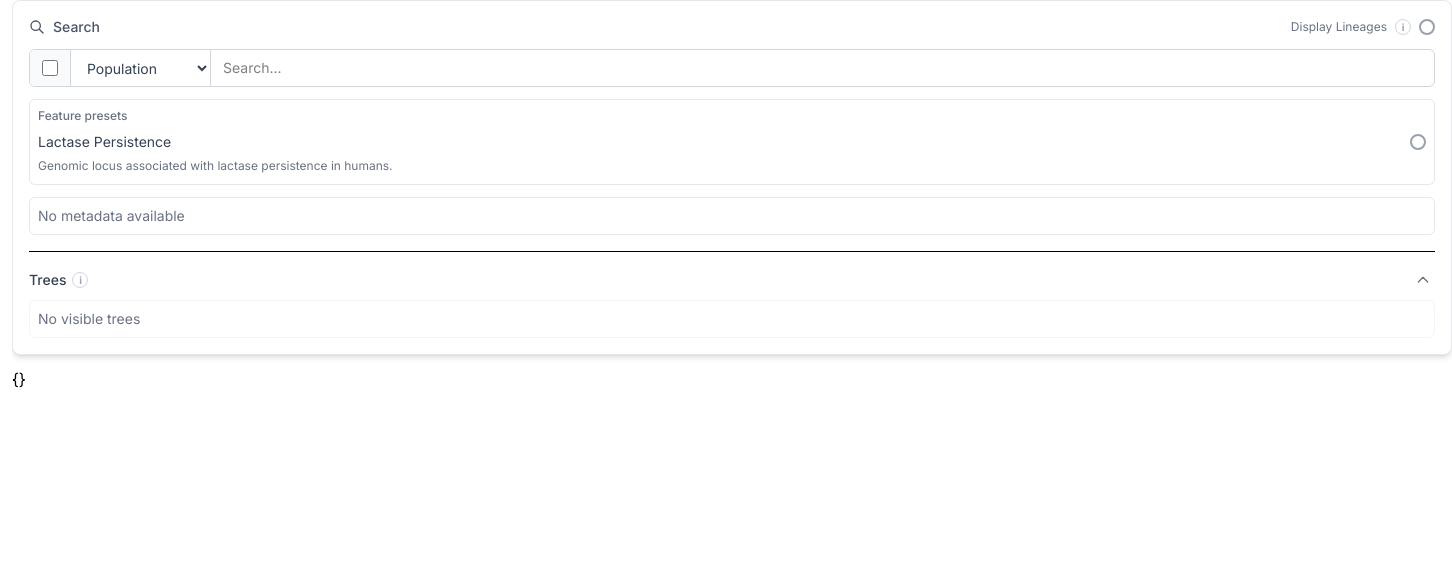
Test: InfoFilter presetFeature › enables preset from toggle and updates URL
This screenshot has width=1452, height=562.
Click the button titled "Enable preset" at (1418, 142), box [1410, 134, 1426, 150]
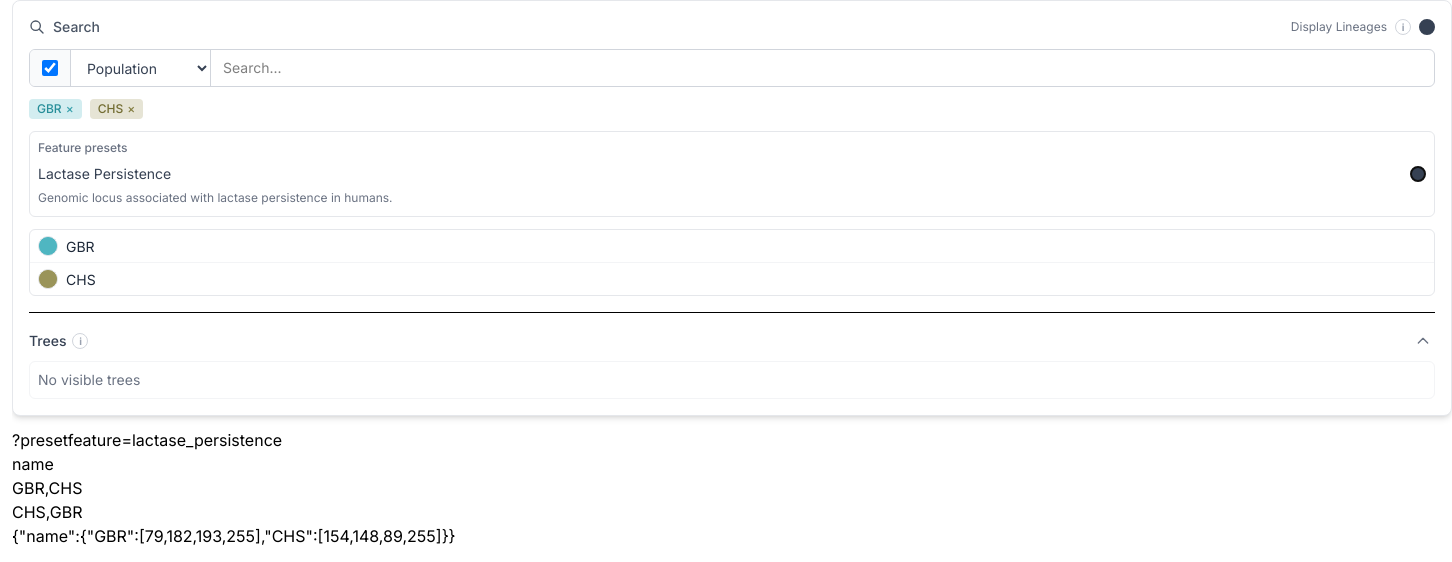
expect the text with test id "location-search" shows "presetfeature=lactase_persistence": met, box [12, 430, 282, 450]
expect the text with test id "selectedColorBy" reads "name": met, box [12, 454, 54, 474]
